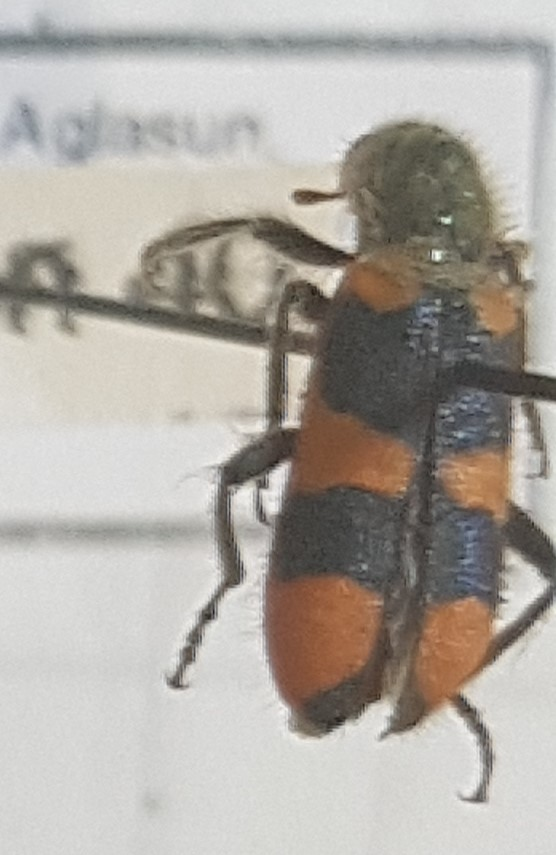trichodes_holtzi: (147, 103, 555, 816)
